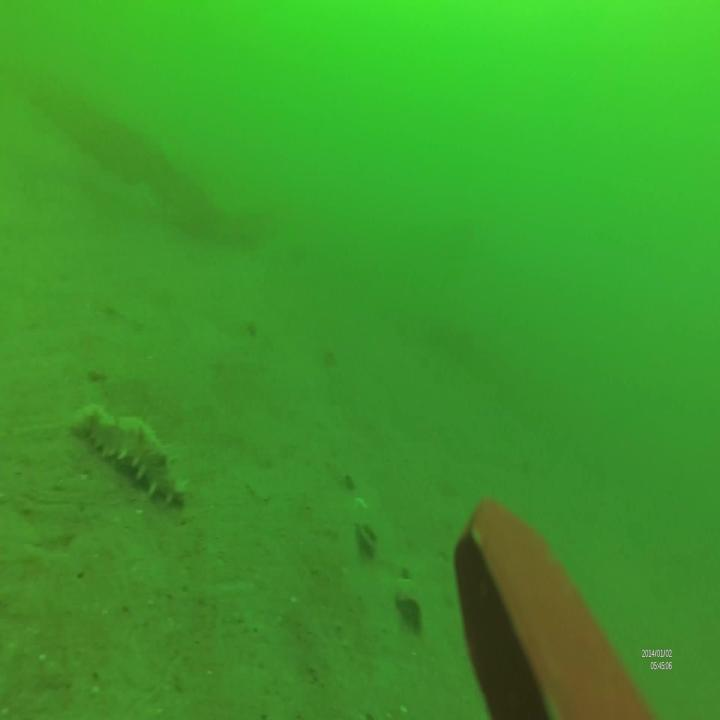holothurian: (72, 406, 184, 503)
